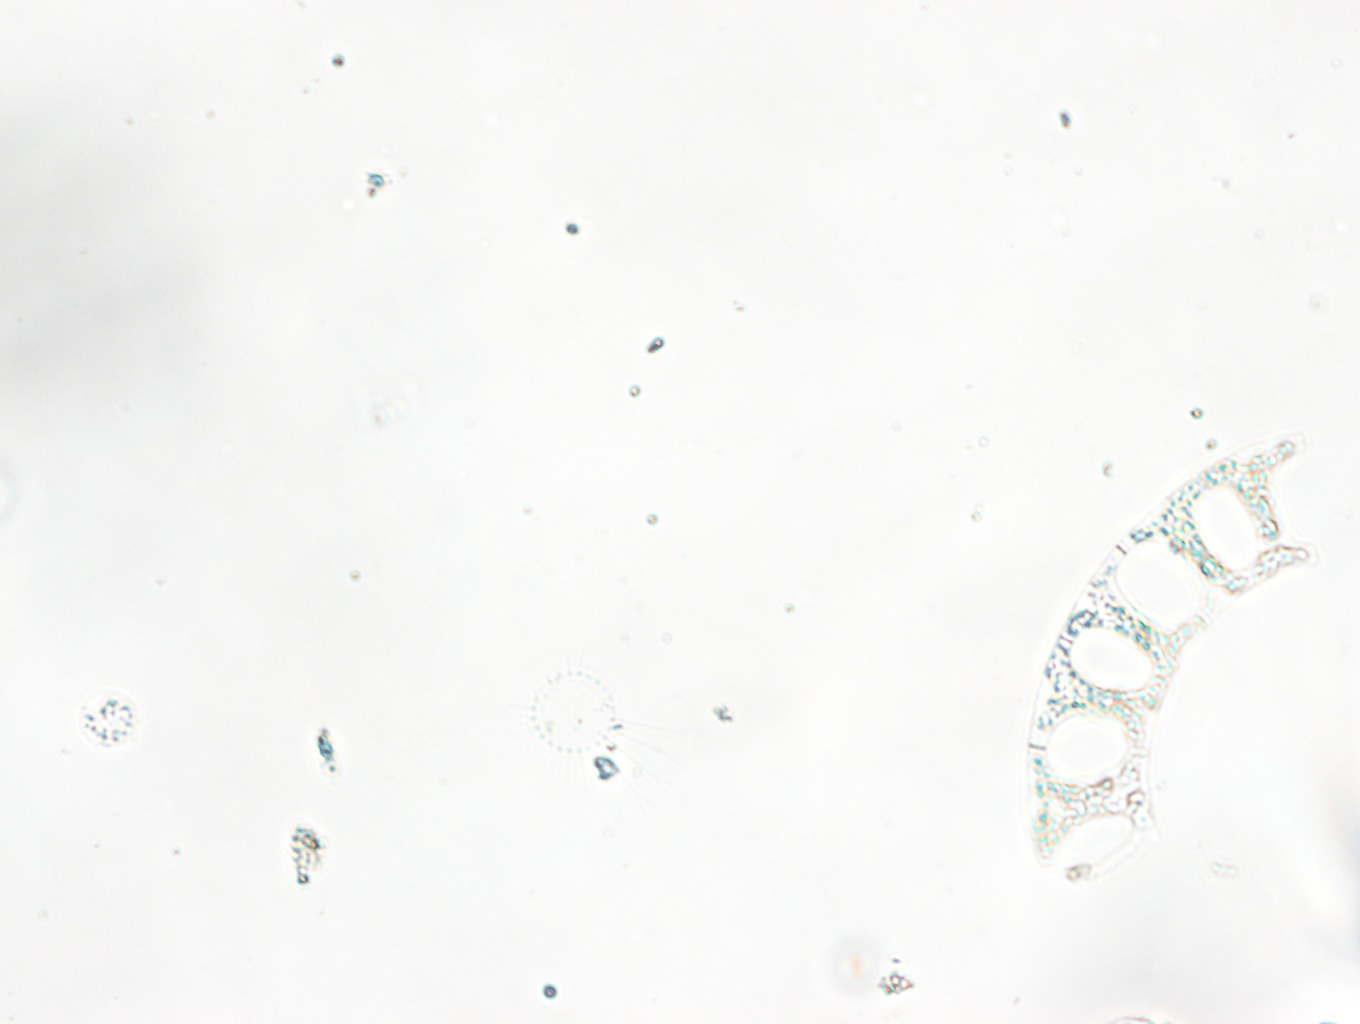eucampia: (1025, 436, 1305, 872)
